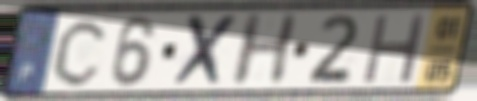2: (305, 12, 360, 88)
6: (110, 14, 160, 89)
C: (49, 16, 112, 89)
H: (226, 11, 303, 90), (359, 11, 430, 87)
X: (167, 11, 242, 91)
